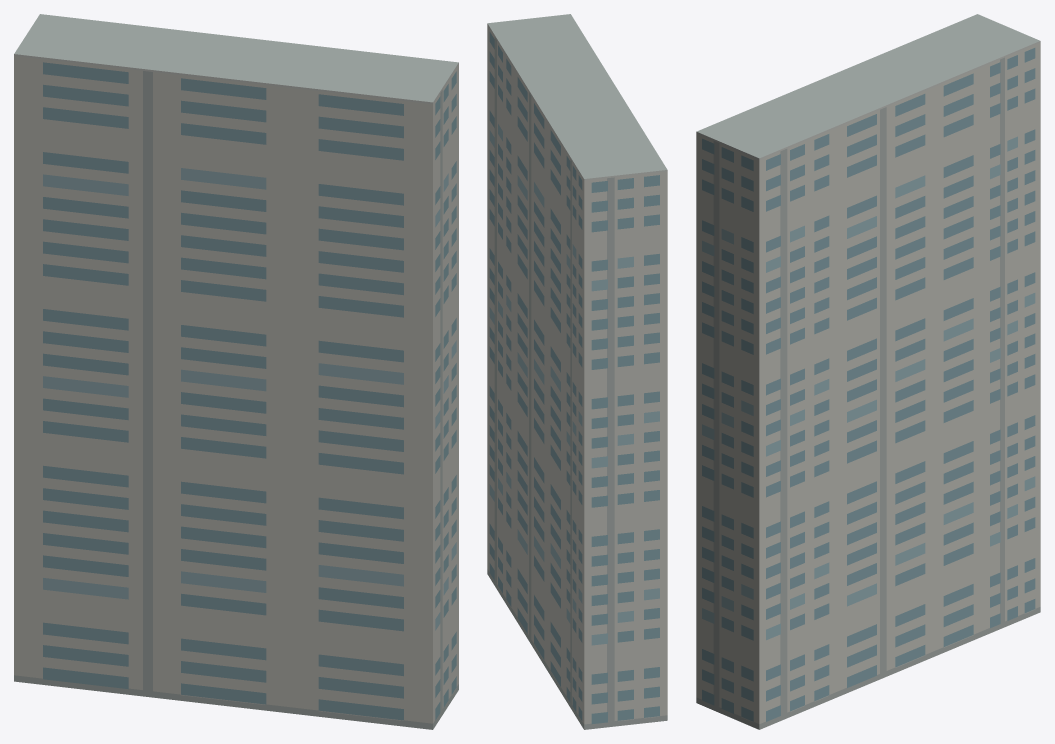
File: residential-6c991107-226a-4fb7-b2bd-7edcb7803ff4.glb
3 views of the same model, side by side, from view 1: azimuth 30°, elevation 25°; view 2: azimuth 150°, elevation 25°; view 3: azimuth 270°, elevation 25° (orthographic). The views are drawn at different scales.
Visible parts, largest first — view 1: residential-6c991107-226a-4fb7-b2bd-7edcb7803ff4.tmp; view 2: residential-6c991107-226a-4fb7-b2bd-7edcb7803ff4.tmp; view 3: residential-6c991107-226a-4fb7-b2bd-7edcb7803ff4.tmp.
Boxes of the visible parts, <box> form: residential-6c991107-226a-4fb7-b2bd-7edcb7803ff4.tmp: <box>14,14,458,729</box>; residential-6c991107-226a-4fb7-b2bd-7edcb7803ff4.tmp: <box>487,14,667,729</box>; residential-6c991107-226a-4fb7-b2bd-7edcb7803ff4.tmp: <box>696,14,1040,729</box>.
Bounding box in the file's own units: 43.37 × 80 × 43.66.
